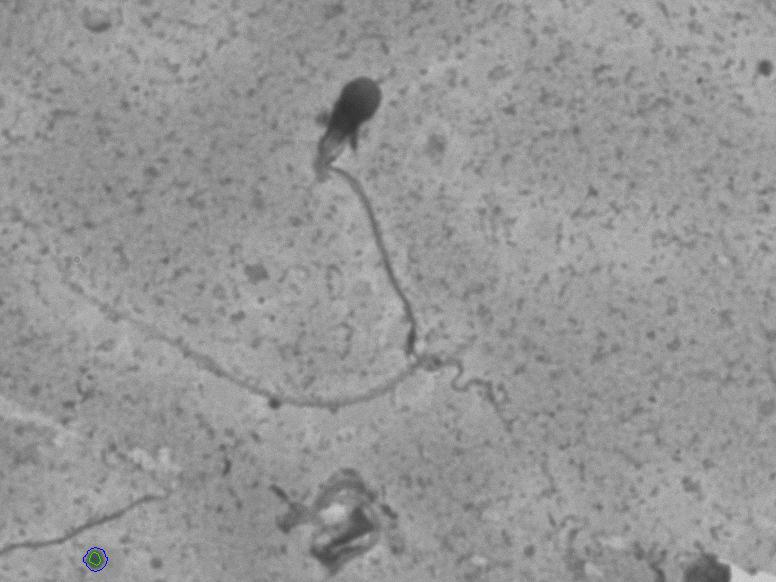Abnormal: (249, 13, 474, 378)
